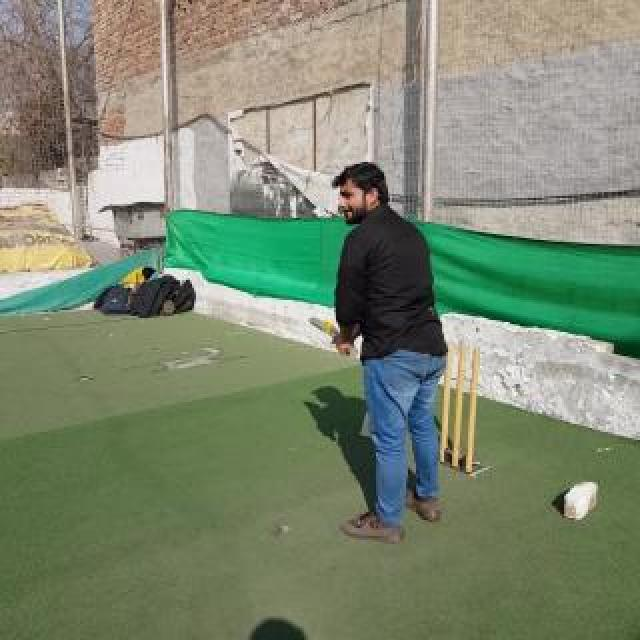bat: (308, 317, 358, 357)
